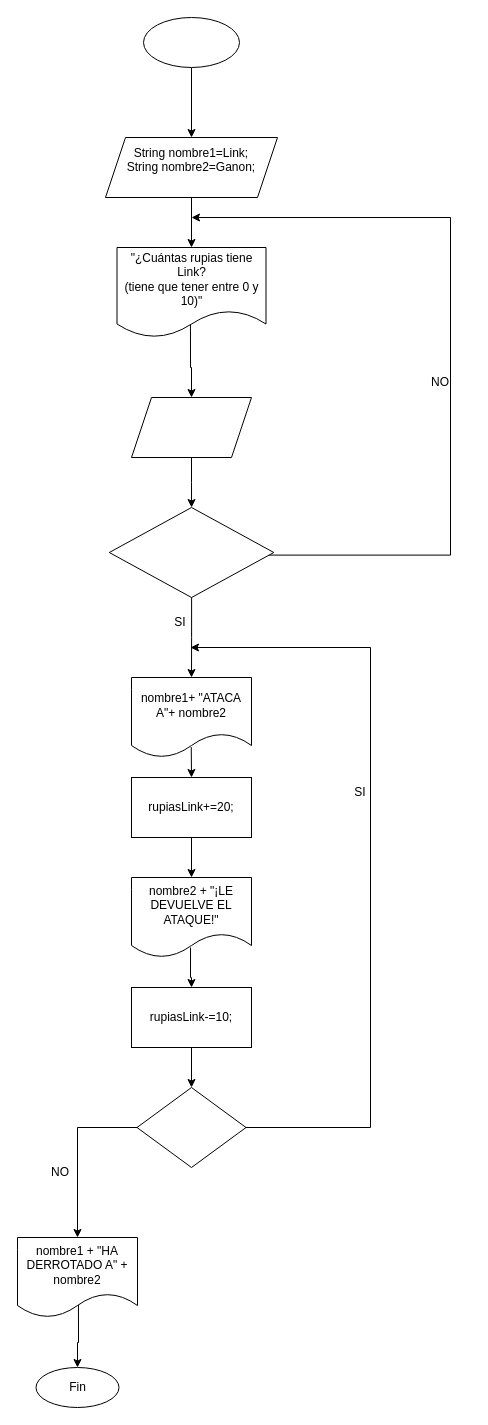
This 488x1425 diagram has some shape labels left out. The shapes that lost their labels are listed below. From the top down, each one's centre as x and y in pixels, then its label:
point (191, 42): Inicio
point (191, 427): int rupiasLink;
point (191, 552): 0<=rupiasLink<=10
point (191, 1127): rupiasLink<=60
